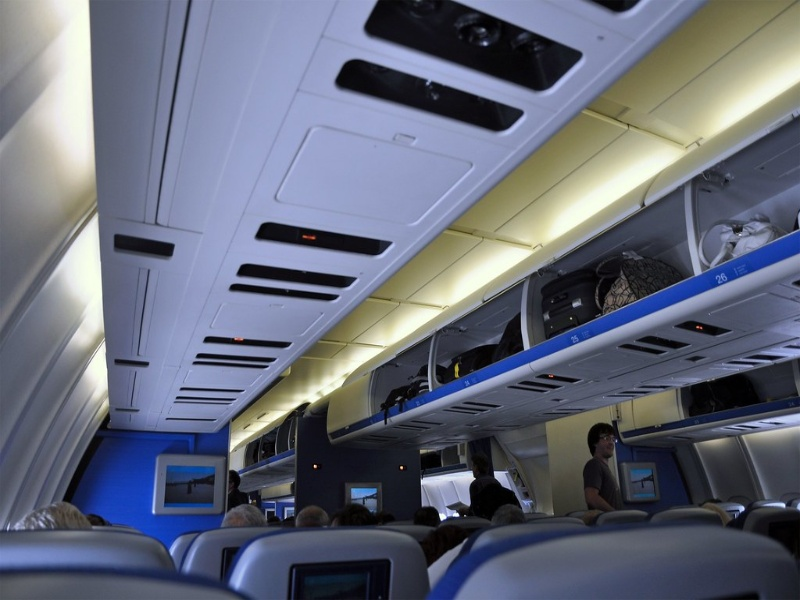close_bin: (326, 370, 374, 434)
open_bin: (524, 179, 691, 350), (691, 115, 799, 279), (429, 280, 525, 396), (369, 334, 433, 428), (246, 427, 278, 469), (276, 410, 304, 457)
